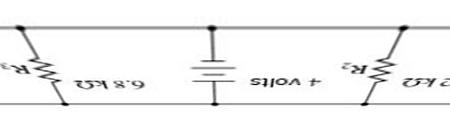resistor: (23, 50, 63, 83), (366, 48, 397, 89)
